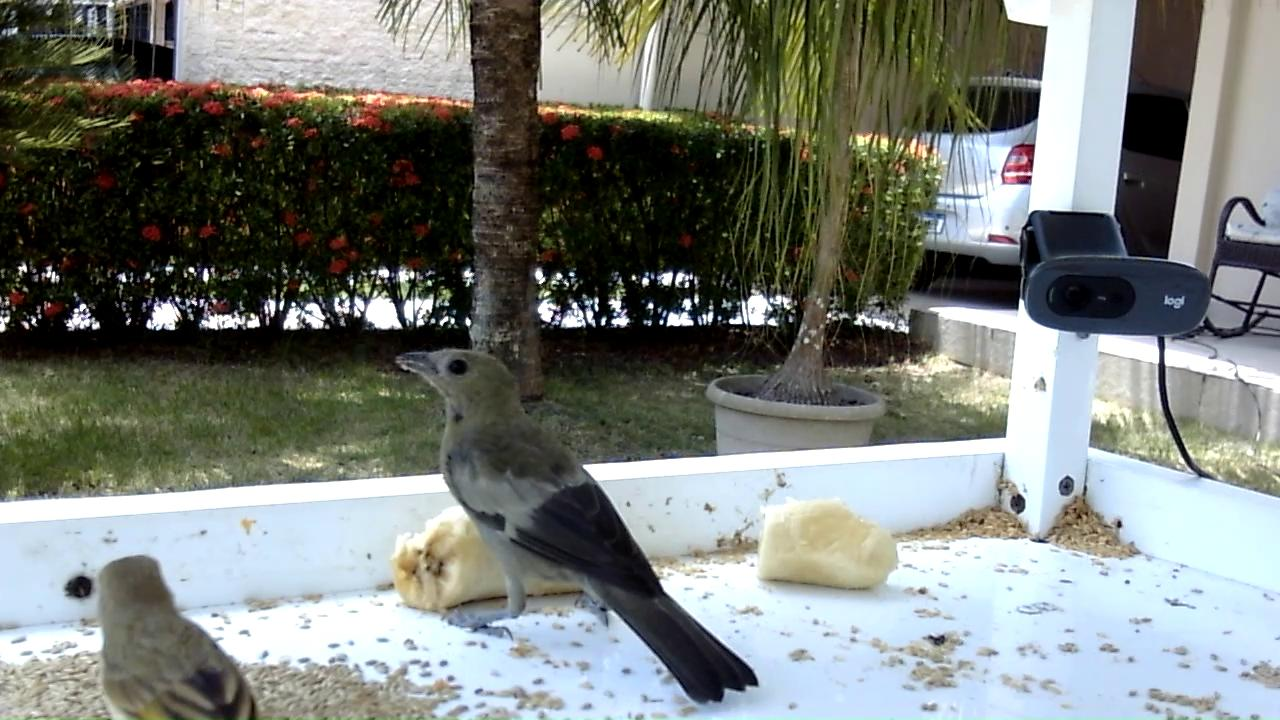canario_do_amazonas: (98, 554, 258, 720)
sanhaco_do_coqueiro: (396, 348, 761, 707)
